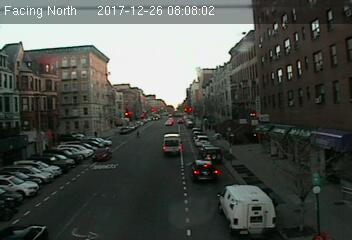car: (190, 159, 218, 181), (202, 146, 223, 164), (91, 147, 113, 163)
truck: (218, 182, 276, 235), (163, 134, 183, 155)
